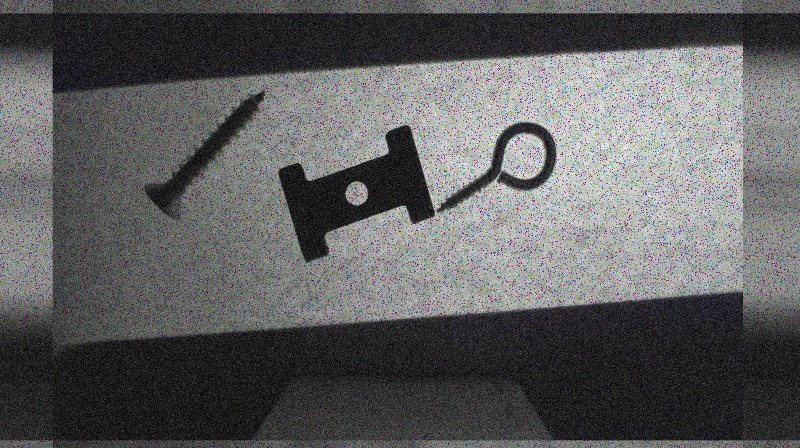O001: (436, 119, 557, 214)
O002: (278, 123, 433, 262)
S001: (142, 89, 267, 221)
